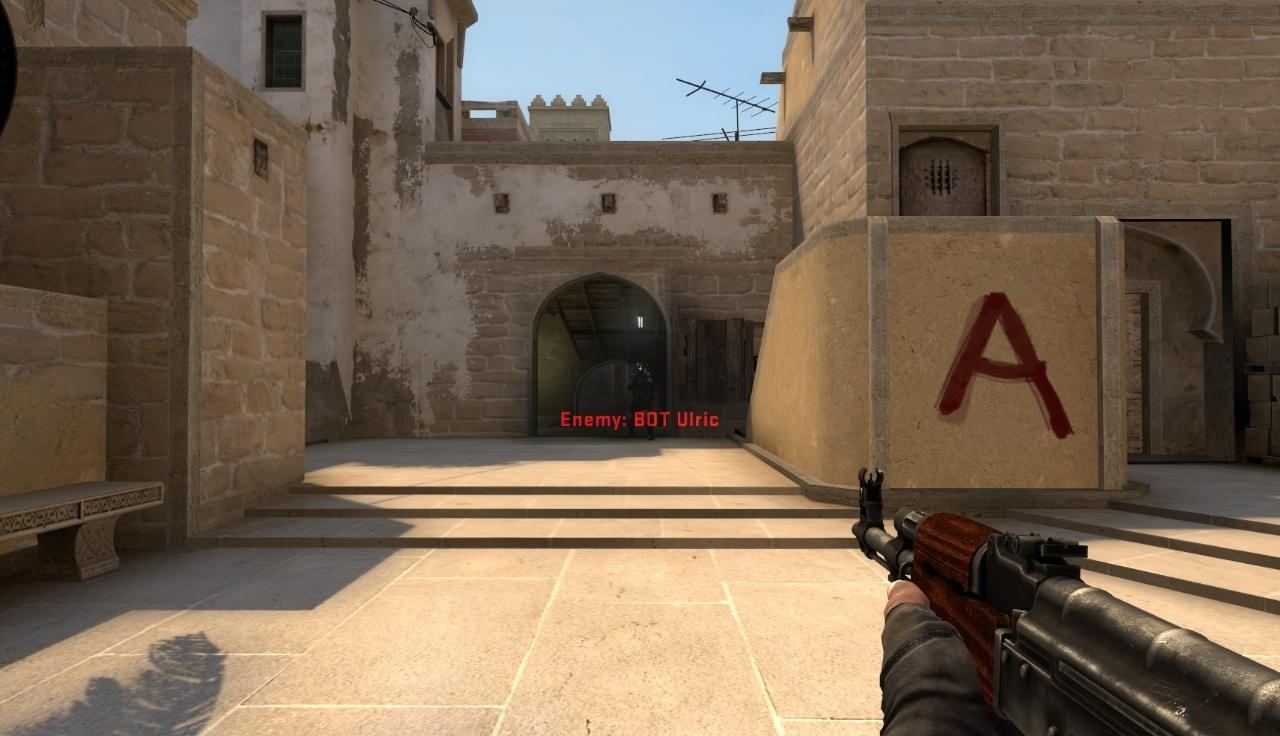ct: (627, 363, 655, 441)
cthead: (634, 363, 645, 375)
rifle: (852, 468, 1280, 736)
